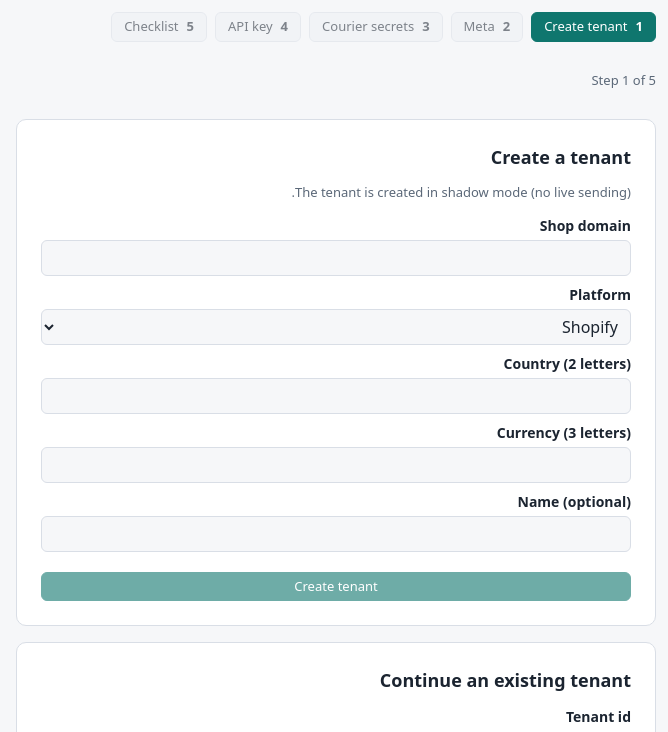
Test: onboarding wizard › renders a 409 inline with the server detail
This screenshot has width=668, height=732.
In the field labelled "Shop domain": (336, 258) [41,240,631,276], type "dup.myshopify.com"
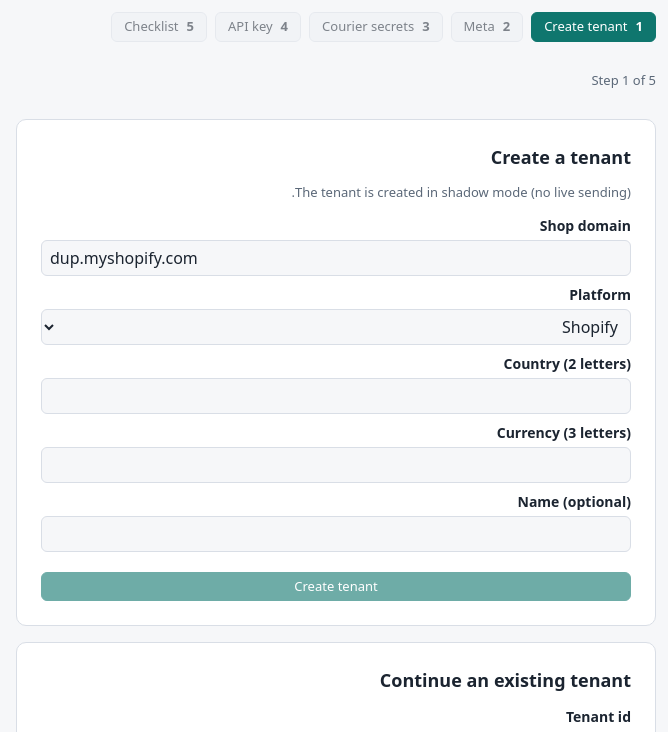
In the field labelled "Country (2 letters)": (336, 396) [41,378,631,414], type "EG"
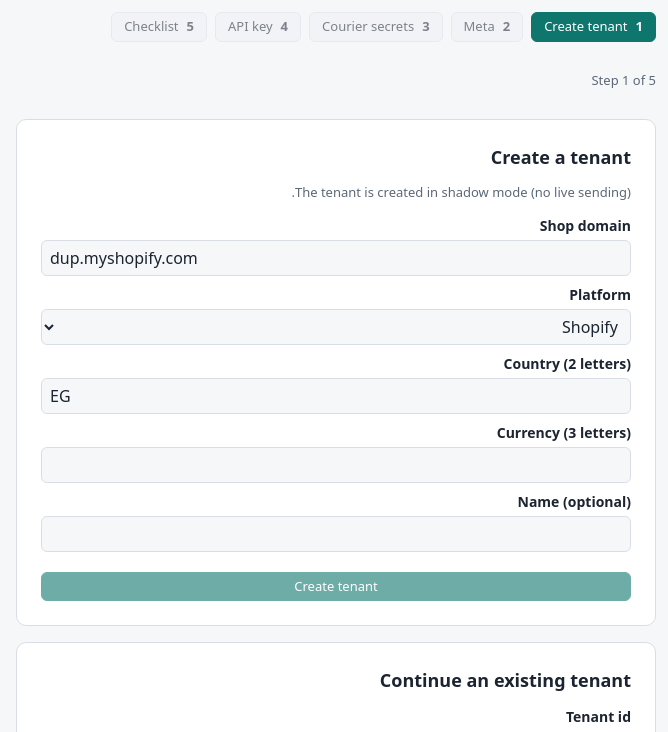
In the field labelled "Currency (3 letters)": (336, 464) [41,446,631,482], type "EGP"
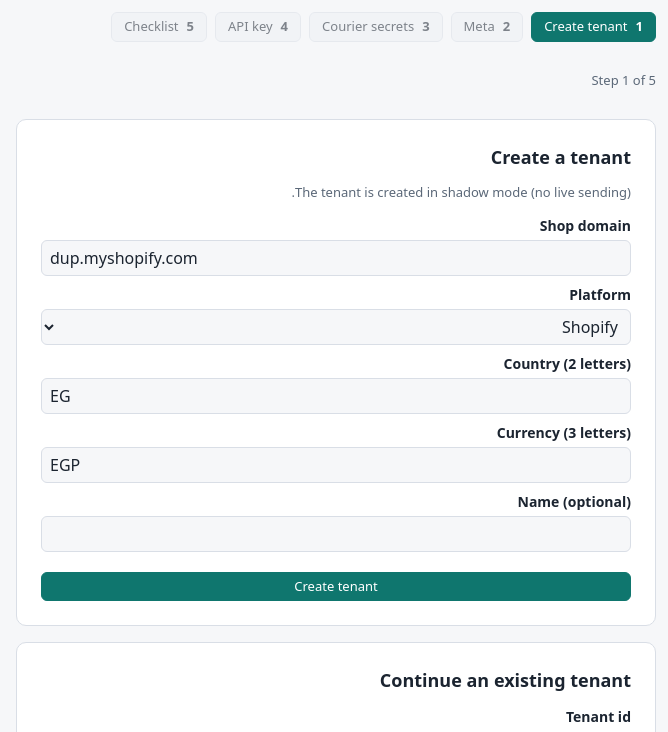
Click the button "Create tenant": (336, 586) [41,572,631,601]
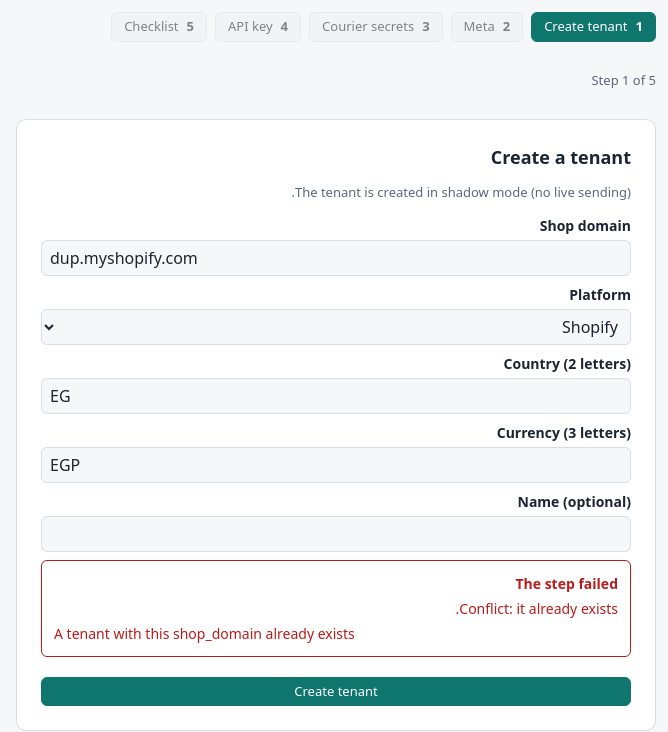
Now the message that starts with "The step failed" shows "Conflict", box [456,598,618,618]
Now the message that starts with "The step failed" shows "A tenant with this shop_domain already exists", box [54,624,355,642]
